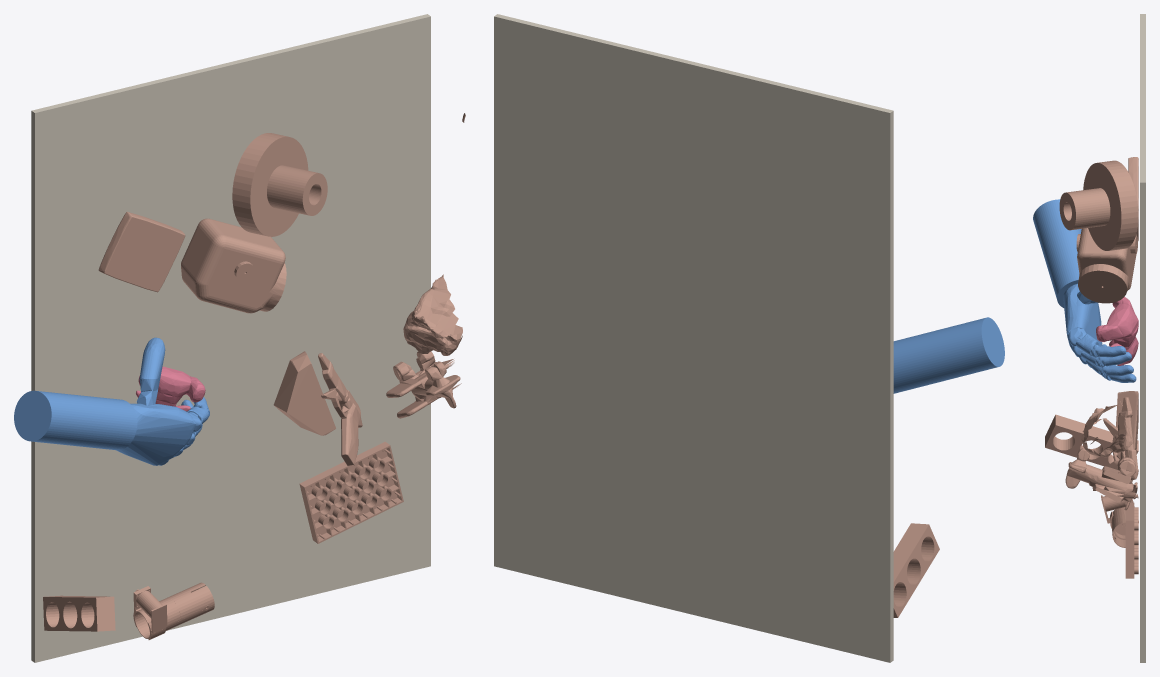
3 renders of one model, left to right at view 1: azimuth 30°, elevation 25°; view 2: azimuth 150°, elevation 25°; view 3: azimuth 270°, elevation 25°, orthographic. The views are drawn at different scales.
Parts seen in each view (by area): view 1: environment, hand, obstacle_010, obstacle_003, obstacle_006, obstacle_009, obstacle_002, obstacle_001, obstacle_007, obstacle_000, obstacle_005, obstacle_008 (+1 smaller); view 2: environment, hand, obstacle_005; view 3: hand, obstacle_003, environment, obstacle_010, obstacle_000, obstacle_005, world, obstacle_008, obstacle_006, obstacle_002, obstacle_007, obstacle_001 (+1 smaller).
Boxes of the visible parts, <box> form: environment: <box>31,14,430,662</box>; hand: <box>14,337,209,465</box>; obstacle_010: <box>181,218,286,313</box>; obstacle_003: <box>232,133,327,236</box>; obstacle_006: <box>299,441,403,543</box>; obstacle_009: <box>98,211,185,292</box>; obstacle_002: <box>403,274,462,355</box>; obstacle_001: <box>273,351,335,435</box>; obstacle_007: <box>133,582,214,639</box>; obstacle_000: <box>386,351,461,418</box>; obstacle_005: <box>43,595,115,631</box>; obstacle_008: <box>318,353,362,465</box>; environment: <box>494,14,893,662</box>; hand: <box>893,317,1004,393</box>; obstacle_005: <box>893,523,939,617</box>; hand: <box>1033,199,1136,382</box>; obstacle_003: <box>1059,160,1138,250</box>; environment: <box>1140,14,1145,662</box>; obstacle_010: <box>1076,228,1137,303</box>; obstacle_000: <box>1065,448,1137,510</box>; obstacle_005: <box>1045,414,1138,466</box>; world: <box>1096,297,1138,365</box>; obstacle_008: <box>1092,397,1138,490</box>; obstacle_006: <box>1125,502,1138,578</box>; obstacle_002: <box>1081,401,1132,457</box>; obstacle_007: <box>1101,494,1138,547</box>; obstacle_001: <box>1114,391,1138,460</box>.
Bounding box in the file's own units: 0.6299 × 0.7147 × 0.1523.
